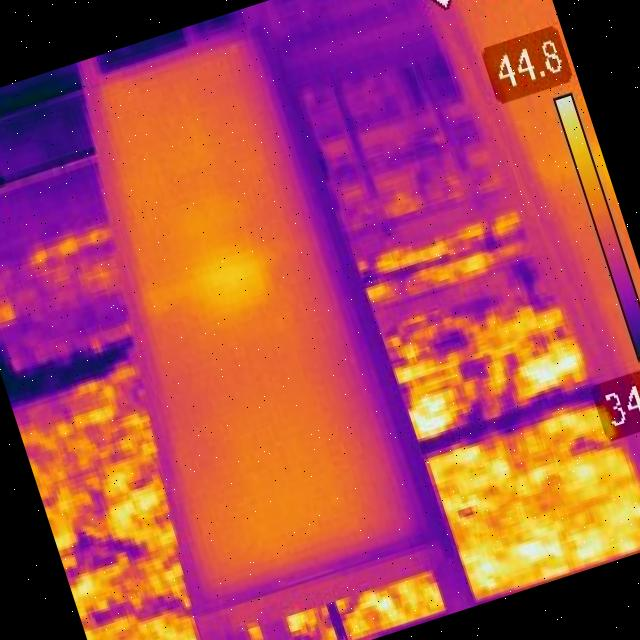Hotspot: (138, 227, 305, 351)
